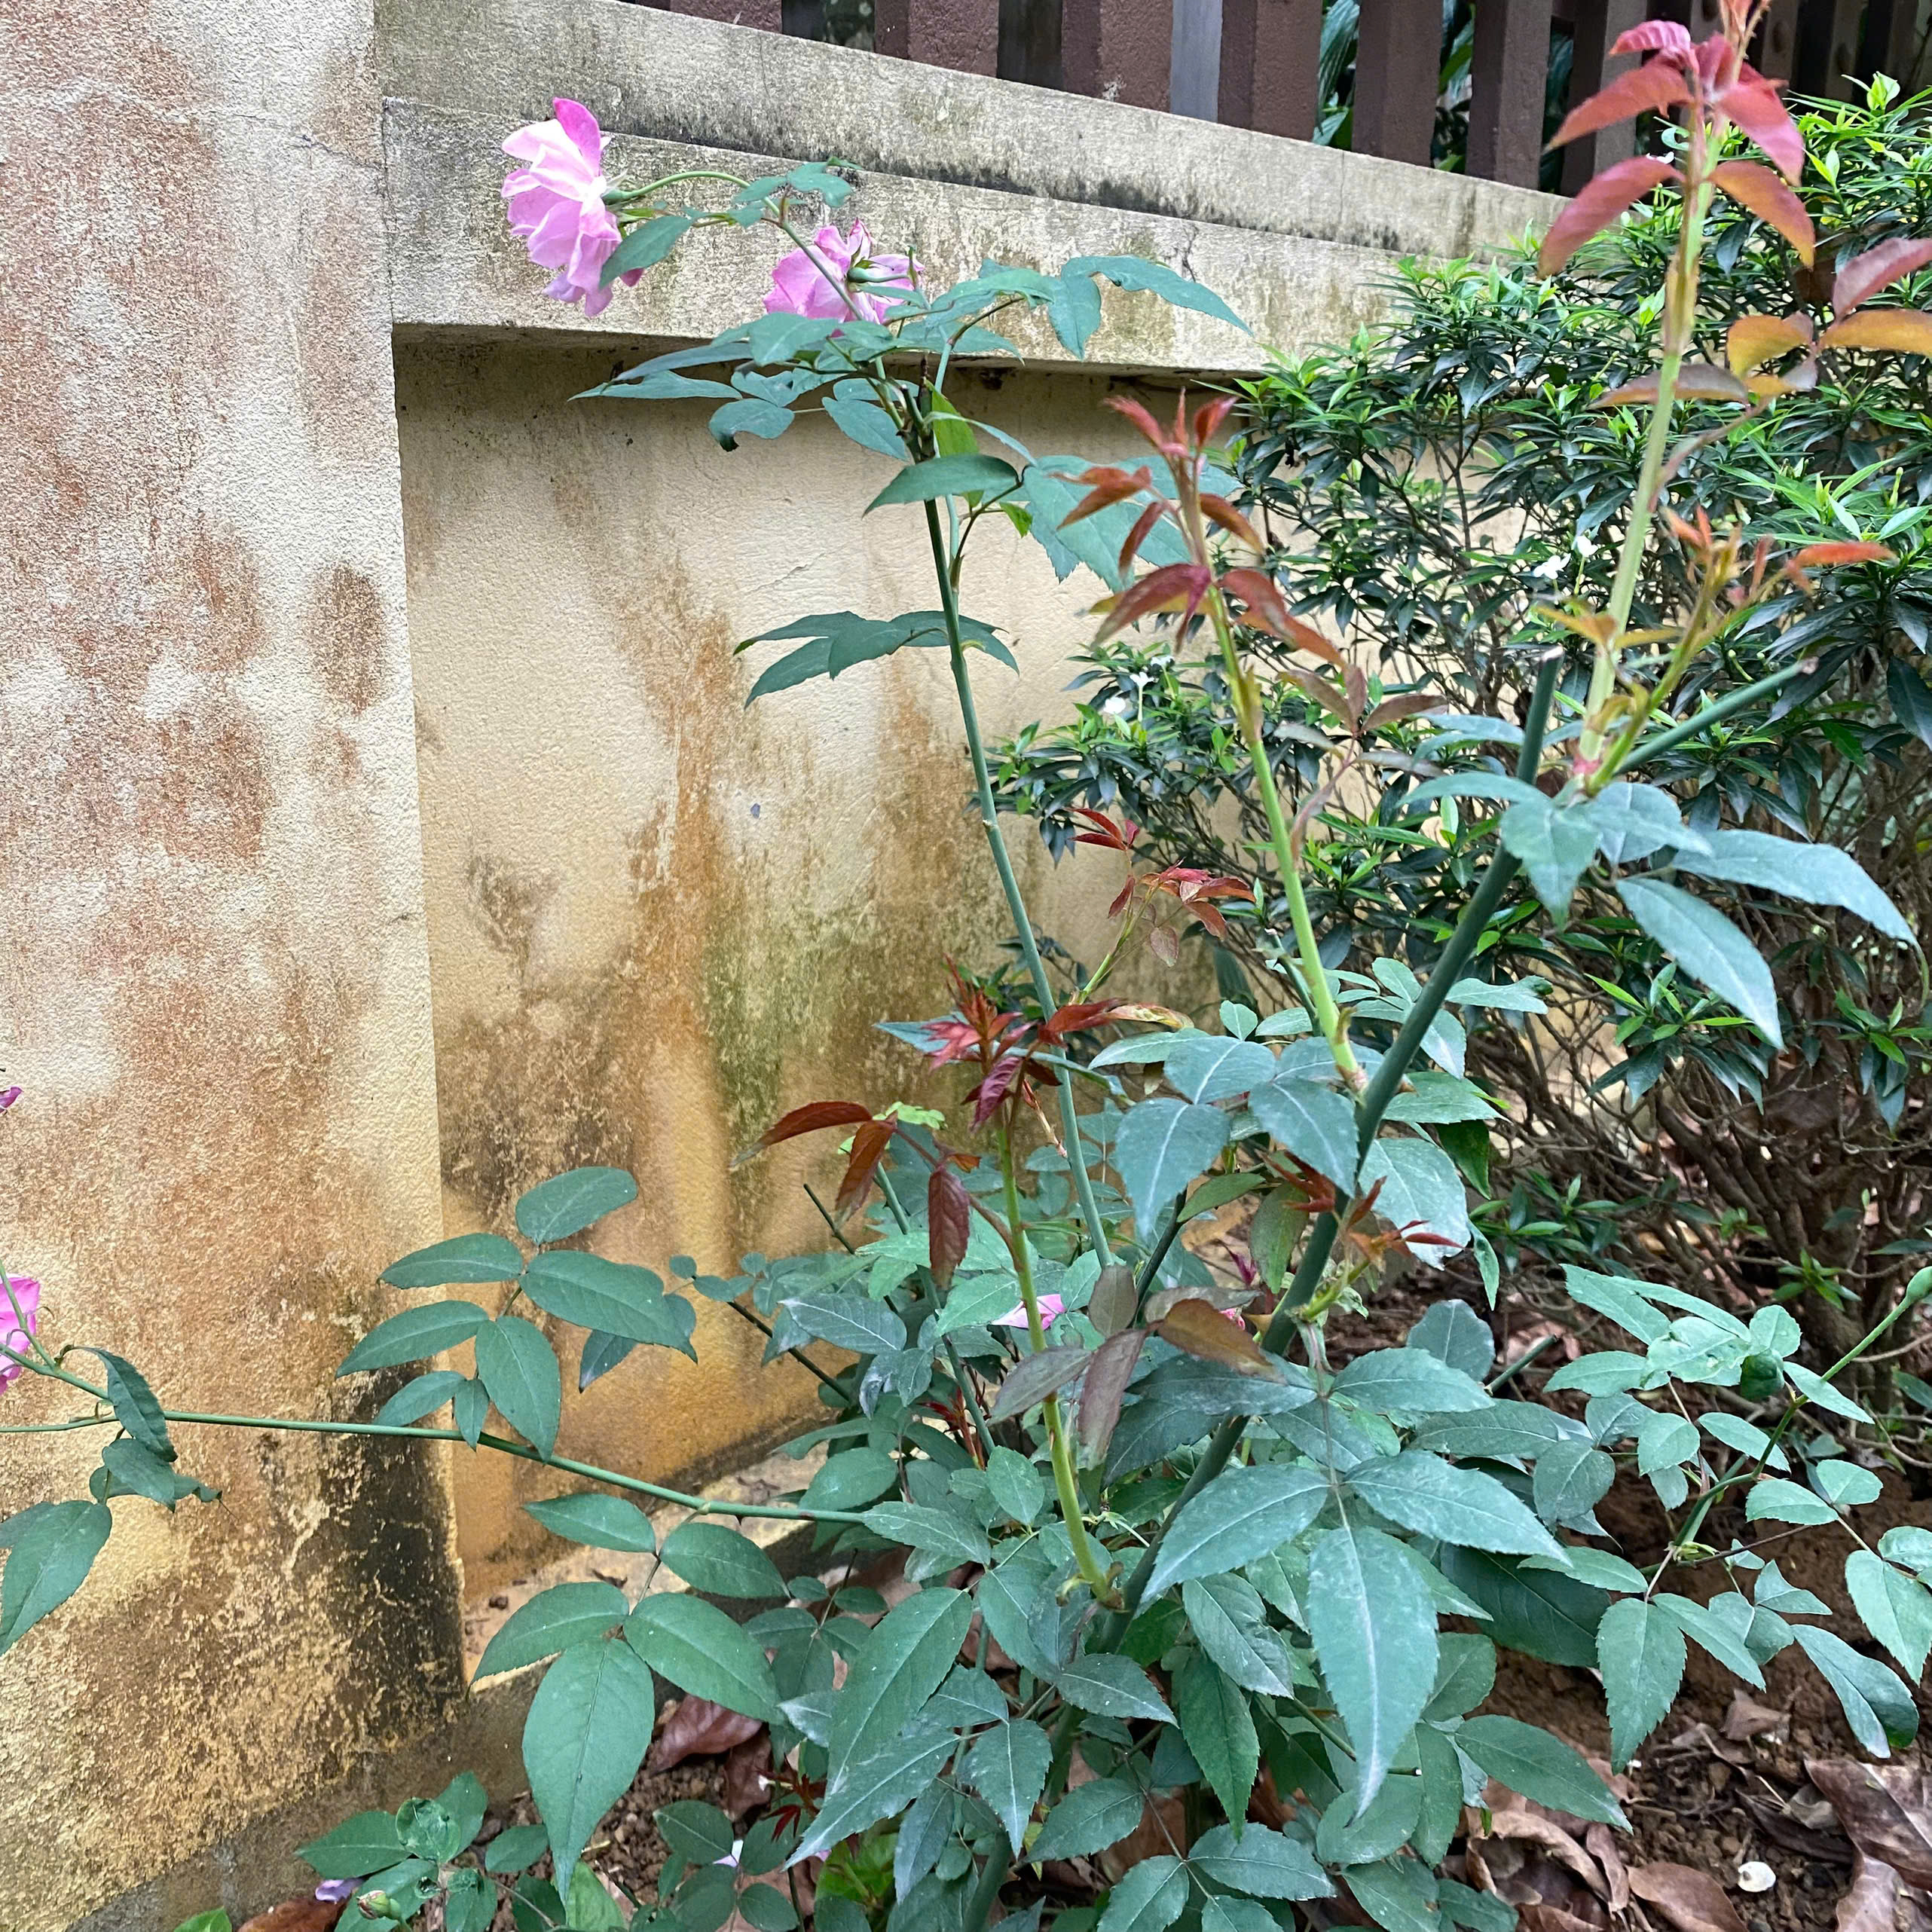hoa_hong_phan: (407, 119, 1231, 1863)
